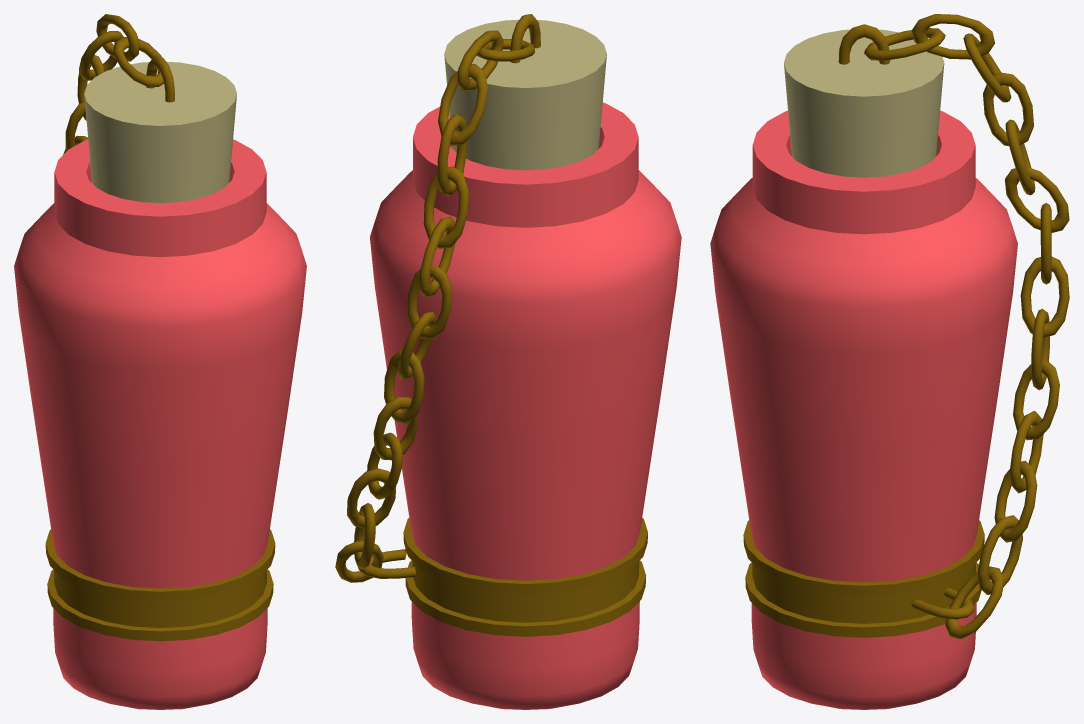
Rendered from health_potion.fbx.
3 views of the same model, side by side, from view 1: azimuth 30°, elevation 25°; view 2: azimuth 150°, elevation 25°; view 3: azimuth 270°, elevation 25° (orthographic). The views are drawn at different scales.
Parts seen in each view (by area): view 1: HealthPotion; view 2: HealthPotion; view 3: HealthPotion.
Boxes of the visible parts, x1,y1,x2,y2 form: HealthPotion: [14, 14, 306, 709]; HealthPotion: [335, 14, 681, 709]; HealthPotion: [710, 14, 1069, 709].
Size of the model in its own units: 28.5 by 67.51 by 33.29.
